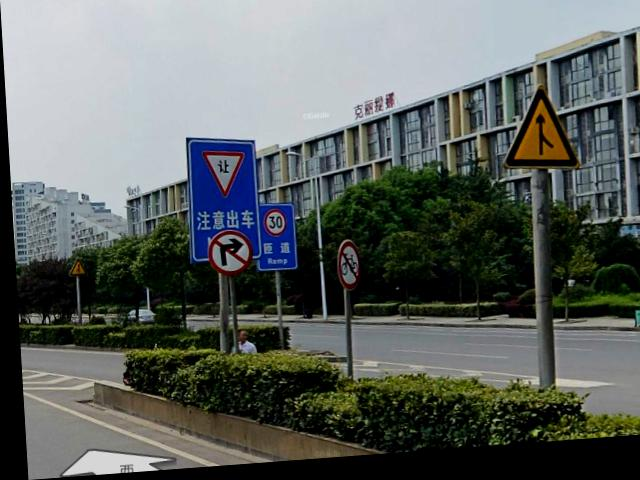not_turn_right: (202, 230, 251, 279)
